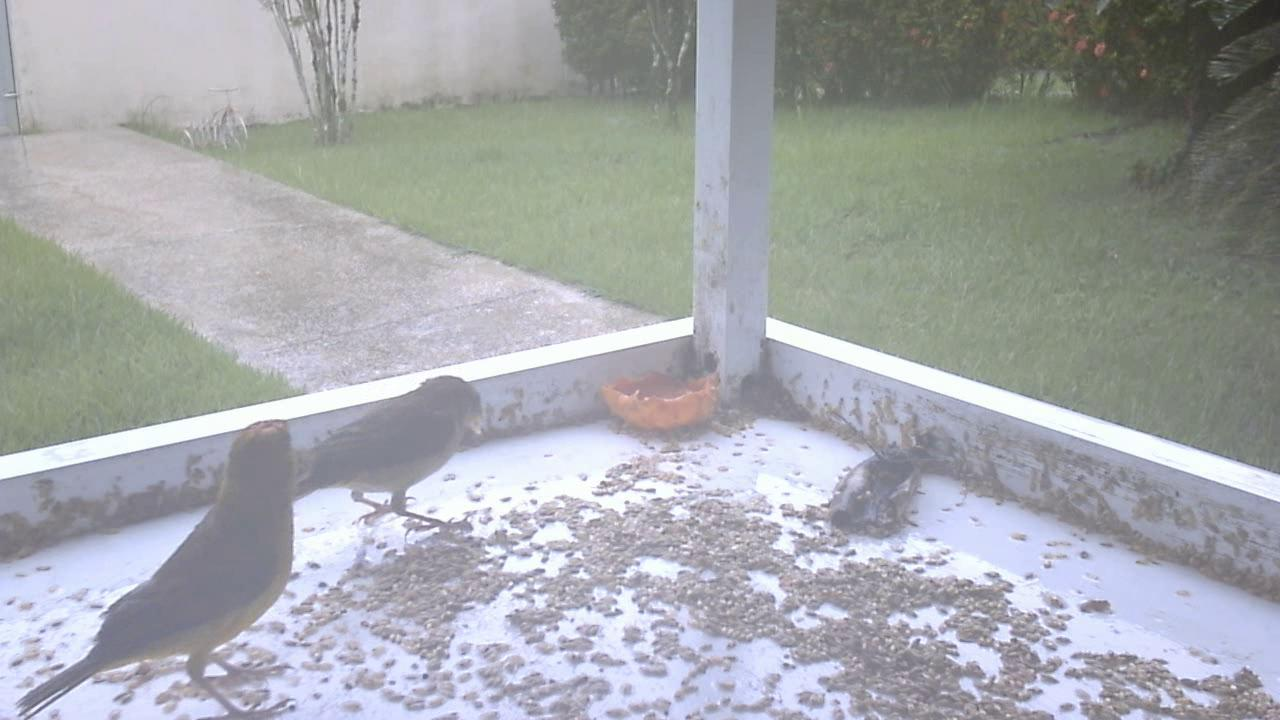canario_do_amazonas: (1, 414, 318, 720), (290, 363, 499, 560)
